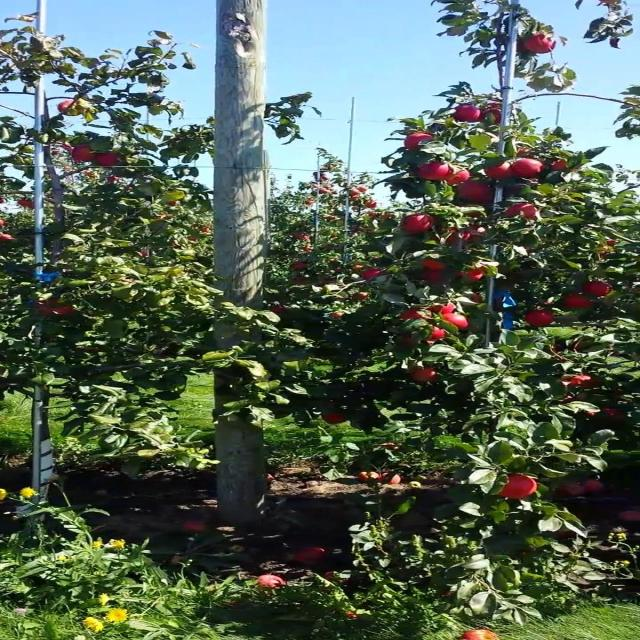apple: (497, 476, 540, 500), (525, 36, 555, 55), (511, 160, 542, 178), (419, 164, 450, 180), (404, 216, 434, 232), (461, 184, 491, 200), (525, 312, 555, 327), (511, 204, 540, 219), (454, 108, 480, 123), (490, 164, 514, 180), (412, 368, 439, 382), (582, 284, 612, 296), (404, 136, 434, 148), (447, 228, 469, 244), (575, 376, 603, 388), (404, 308, 430, 320), (426, 328, 448, 342), (461, 632, 498, 640), (568, 296, 592, 308), (461, 268, 485, 280), (561, 484, 585, 496), (77, 148, 96, 163), (42, 308, 76, 316), (447, 316, 469, 328), (447, 172, 469, 184), (483, 112, 505, 124), (326, 412, 347, 424), (99, 156, 121, 167), (604, 408, 626, 419), (561, 376, 578, 388), (42, 300, 59, 312), (433, 304, 455, 313), (426, 260, 448, 269), (554, 160, 569, 171), (428, 272, 443, 283), (362, 272, 382, 280), (56, 308, 76, 316), (20, 200, 36, 208), (63, 100, 78, 108), (42, 308, 55, 316), (63, 144, 75, 152), (404, 340, 421, 345), (476, 296, 484, 303), (276, 308, 286, 313)
